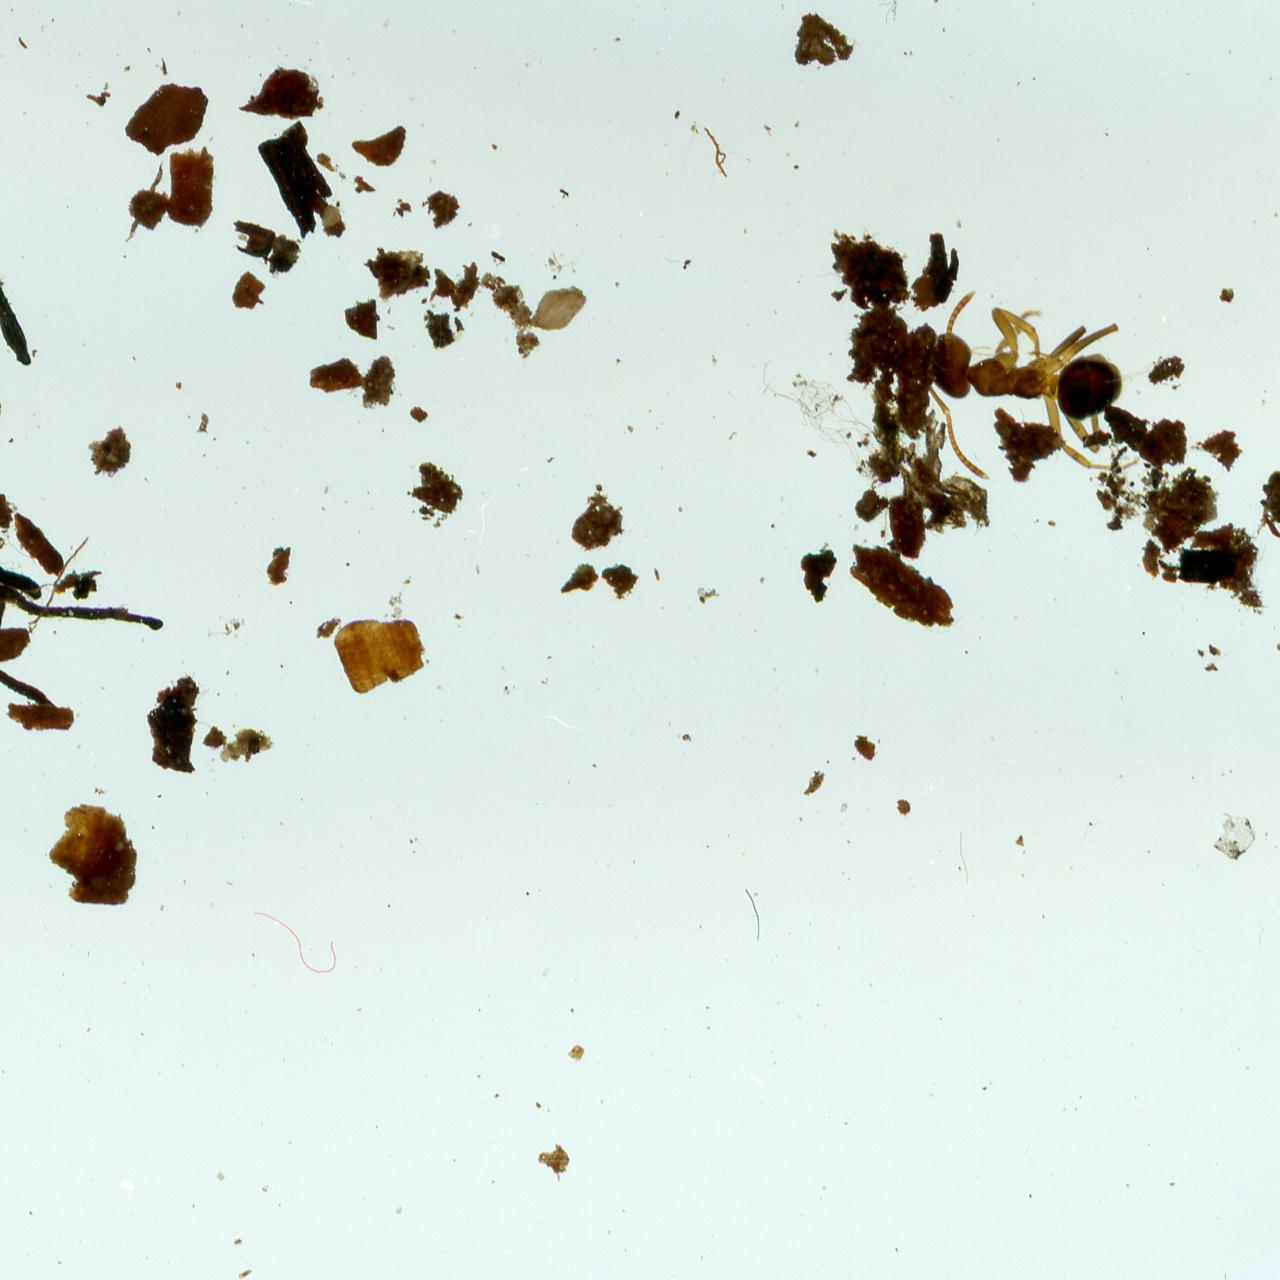arthropod: (928, 292, 1143, 484)
